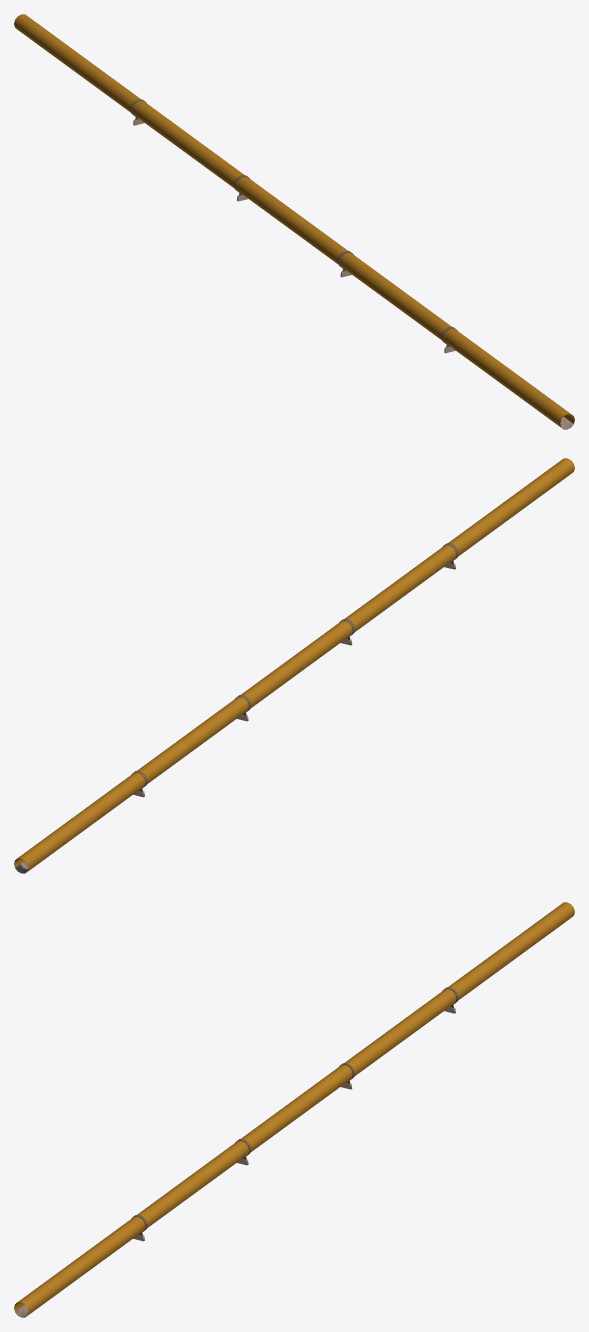
The picture shows the model from 3 angles, top to bottom: view 1: azimuth 30°, elevation 25°; view 2: azimuth 150°, elevation 25°; view 3: azimuth 330°, elevation 25°; orthographic projection.
Parts seen in each view (by area): view 1: A2; view 2: A2; view 3: A2.
Boxes of the visible parts, x1,y1,x2,y2 form: A2: (14,14,574,429); A2: (14,458,574,873); A2: (14,902,574,1317).
Bounding box in the file's own units: 51 × 73.43 × 3000.
